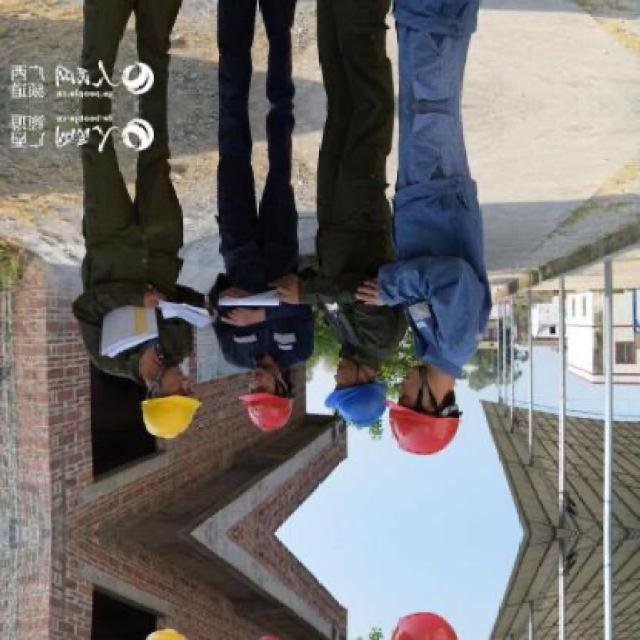con casco: (297, 322, 431, 454), (88, 356, 220, 453), (403, 358, 497, 491), (212, 348, 322, 450)
